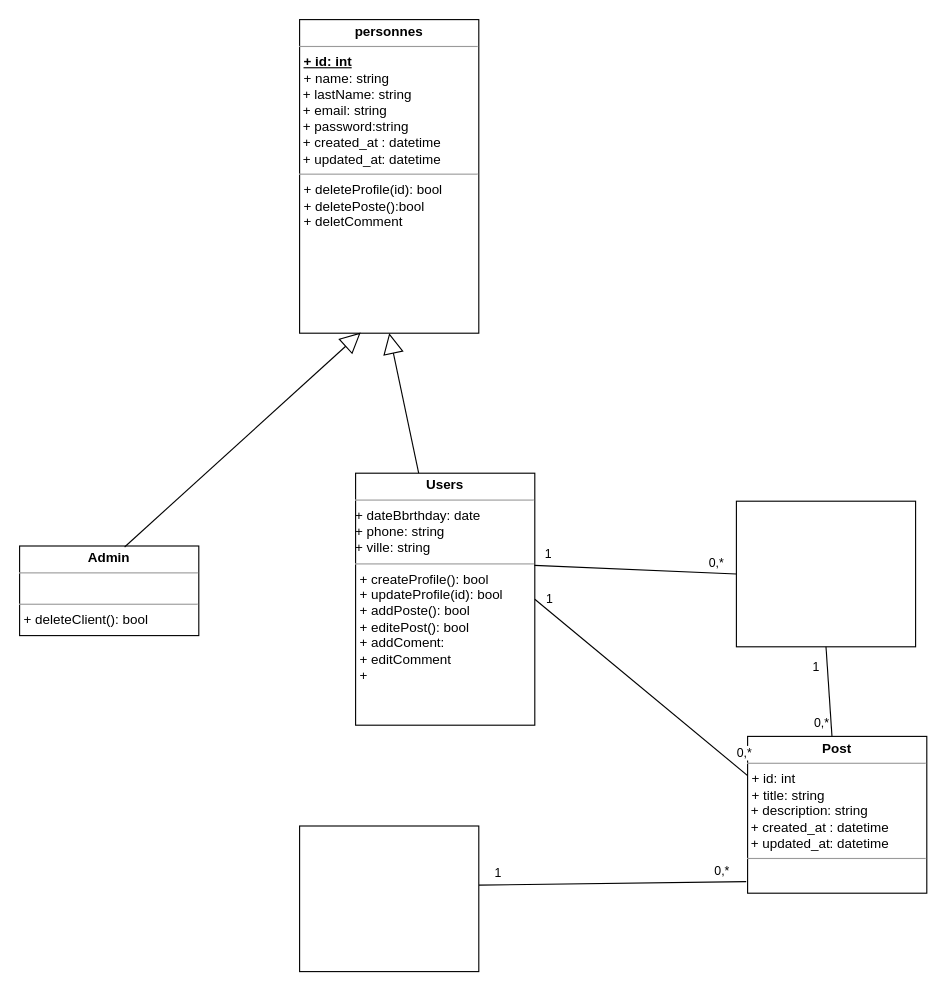
Some shapes in this 946 by 991 pixel diagram are drawn without their labels. Each missing label, with the centre of its shape:
category +id: int + title: string + created_at : datetime + updated_at: datetime: the point at 388,898
Comment +id: int + title: string + created_at : datetime + updated_at: datetime: the point at 825,573
